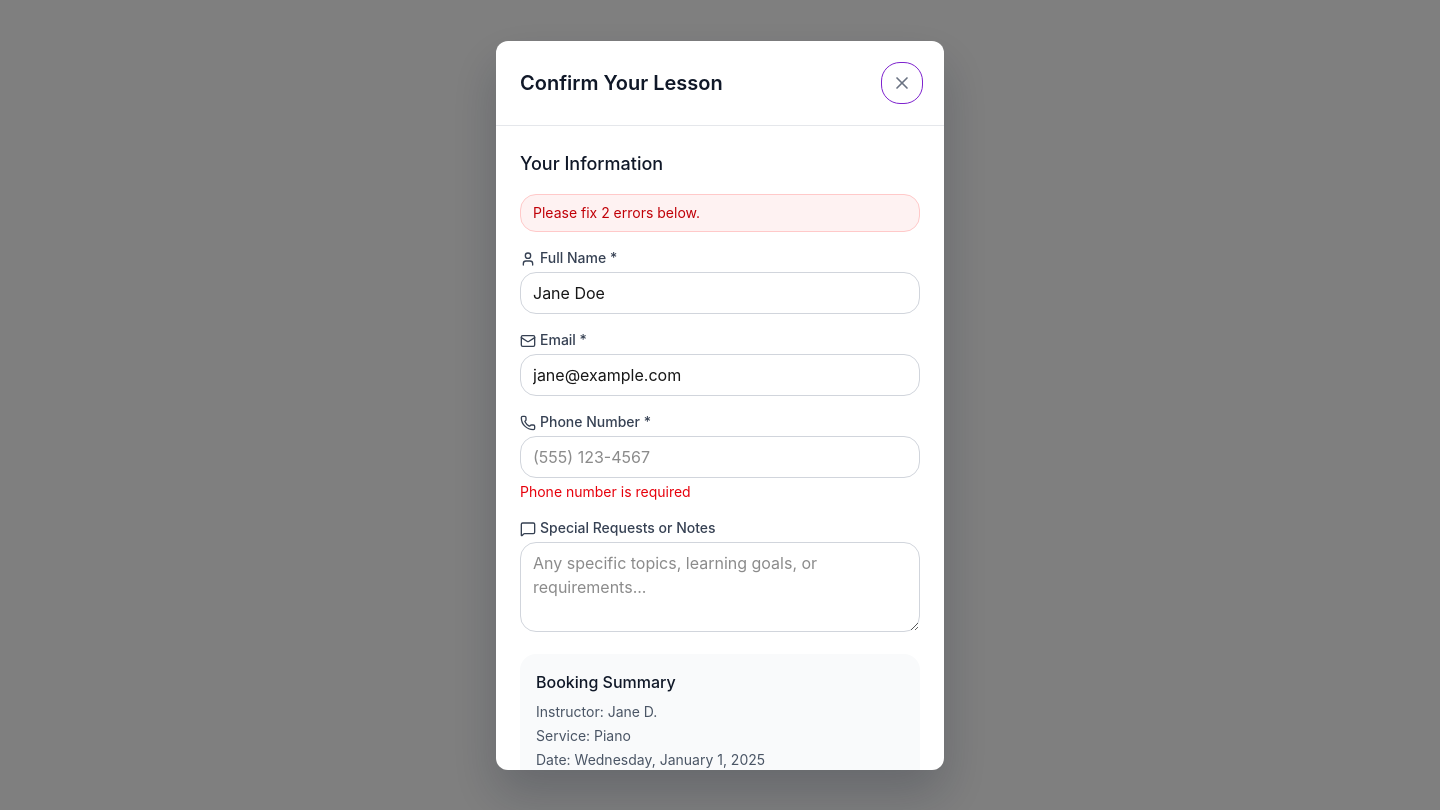
Test case: BookingModal › form checkbox handling › clears terms and phone validation errors after a defensive submit attempt
The image size is (1440, 810).
Check: the text "Phone number is required" is shown, box [520,482,691,500]
Type "555-1111" into the field labelled "Phone Number *". click: (720, 456)
box: [520,436,920,478]
(page scrolled)
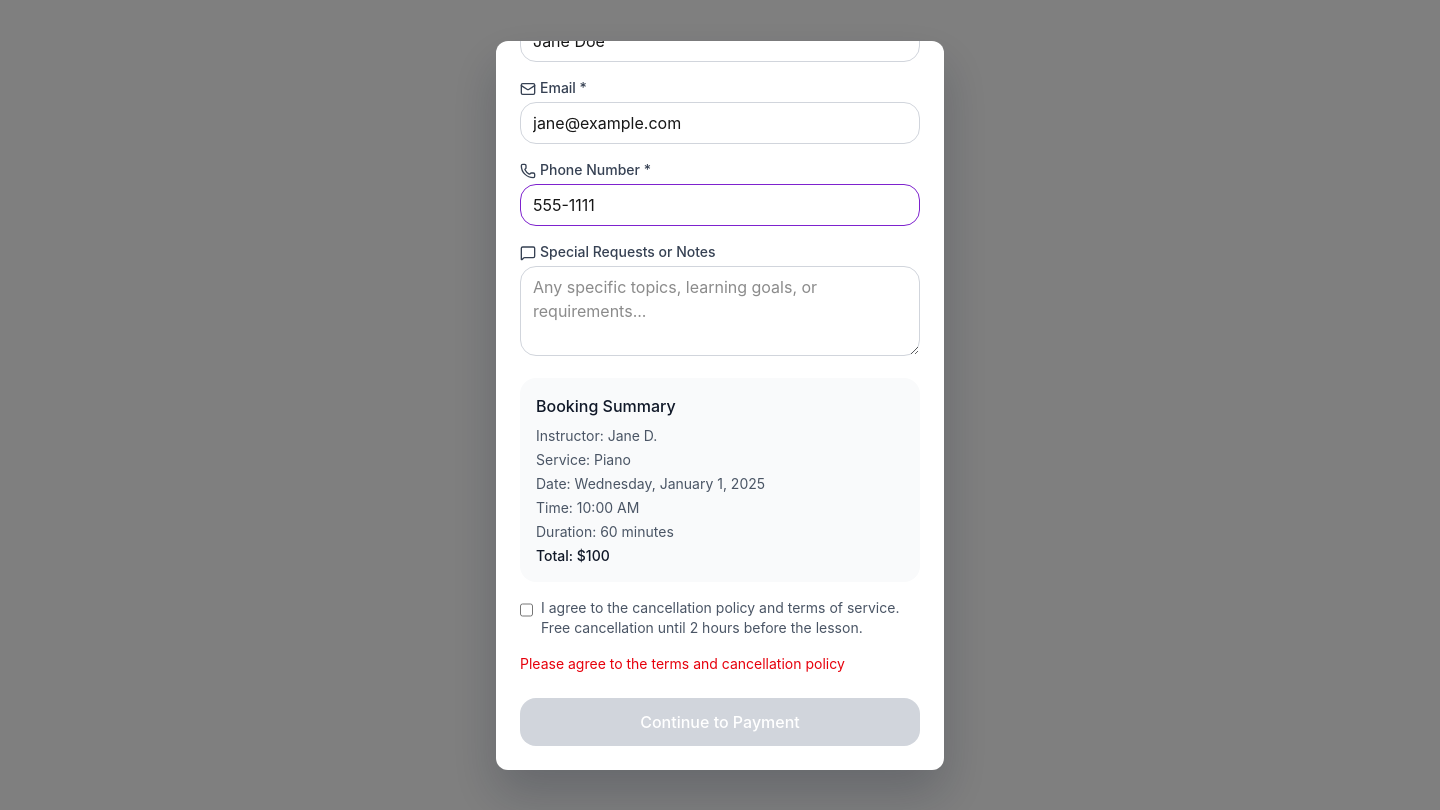
Click the checkbox. click: click(526, 610)
box: [520,602,533,618]
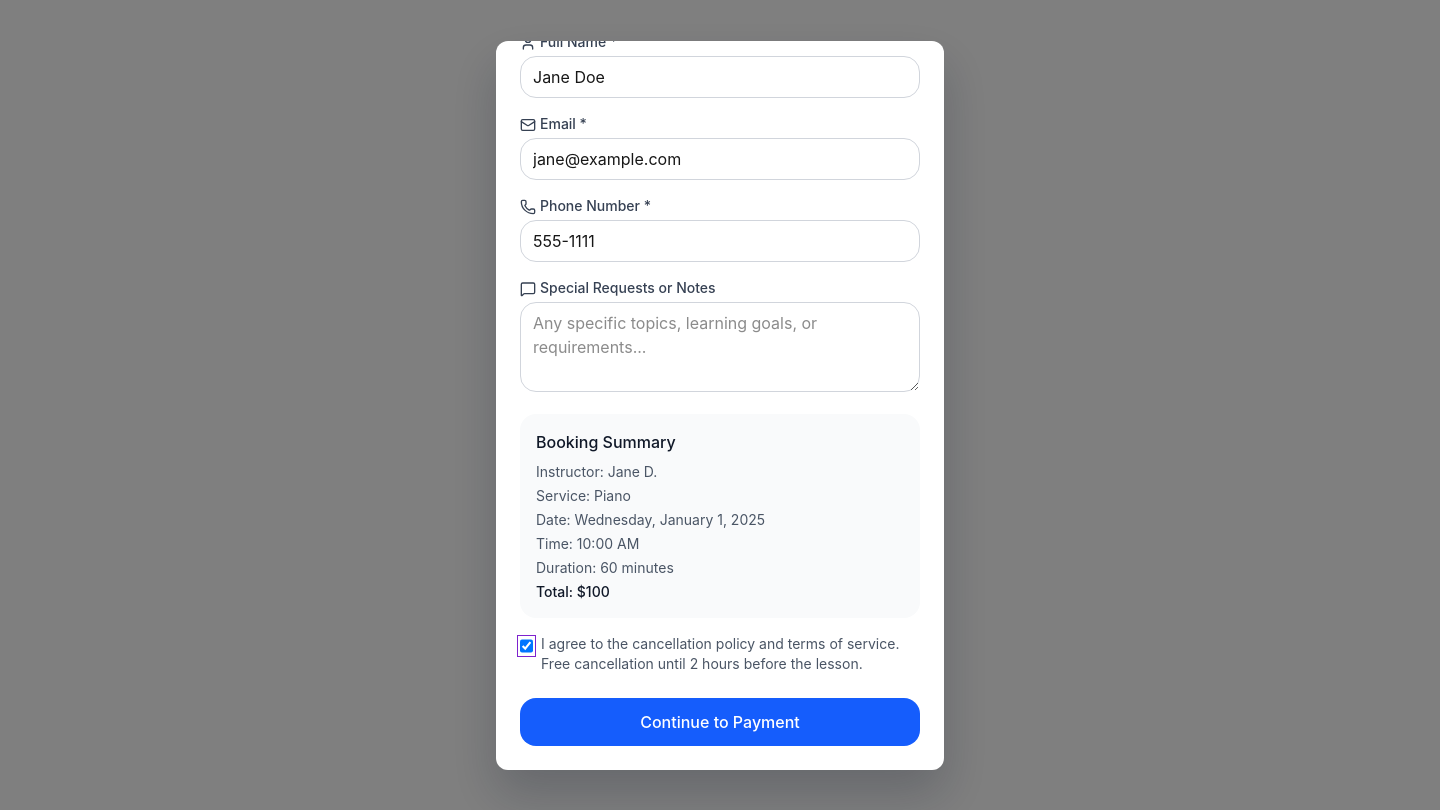
Check: the text "Phone number is required" is not shown
Check: the text "Please agree to the terms and cancellation policy" is gone
